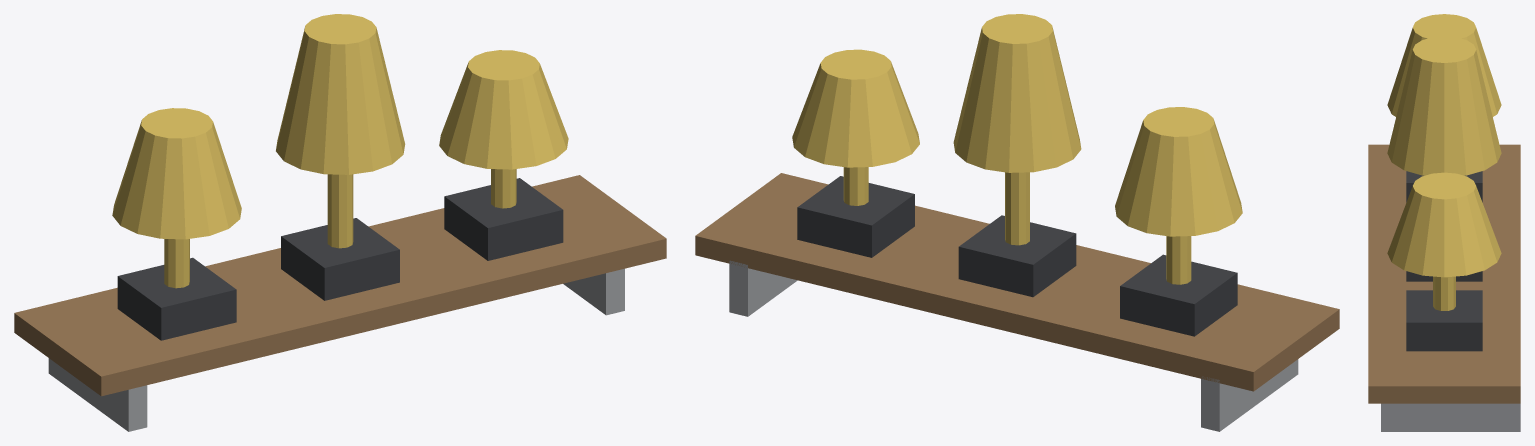
File: trophy_shelf.glb
The picture shows the model from 3 angles, left to right: view 1: azimuth 30°, elevation 25°; view 2: azimuth 150°, elevation 25°; view 3: azimuth 270°, elevation 25°; orthographic projection. The views are drawn at different scales.
Parts seen in each view (by area): view 1: trophy_shelf; view 2: trophy_shelf; view 3: trophy_shelf.
Part boxes in pixels (bbox=[...]): trophy_shelf: bbox=[14, 14, 666, 431]; trophy_shelf: bbox=[695, 14, 1339, 431]; trophy_shelf: bbox=[1368, 14, 1520, 431].
Bounding box in the file's own units: 0.9 × 0.48 × 0.24.
